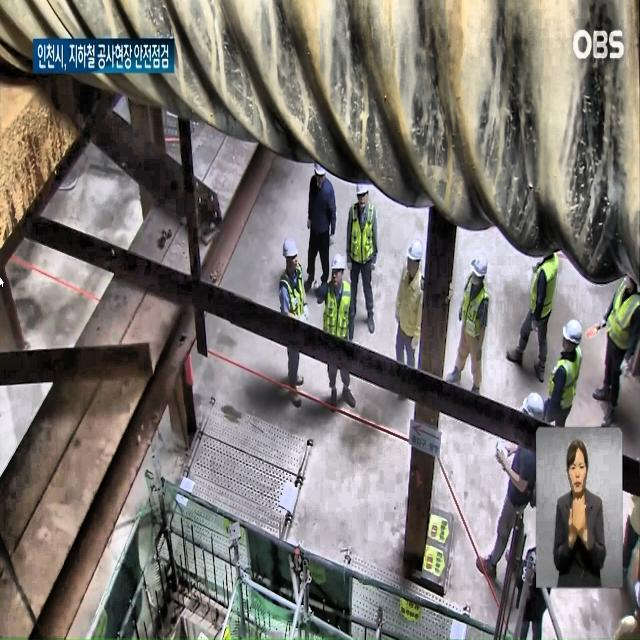safety_helmet: (468, 242, 499, 294), (519, 378, 547, 424), (565, 317, 589, 358), (331, 248, 354, 282), (405, 234, 424, 269), (277, 230, 297, 252), (352, 177, 368, 200)
safety_jacket: (318, 280, 361, 358), (604, 276, 638, 354), (351, 208, 381, 280), (456, 286, 487, 354), (280, 280, 303, 356), (533, 262, 555, 334), (552, 353, 578, 409)
